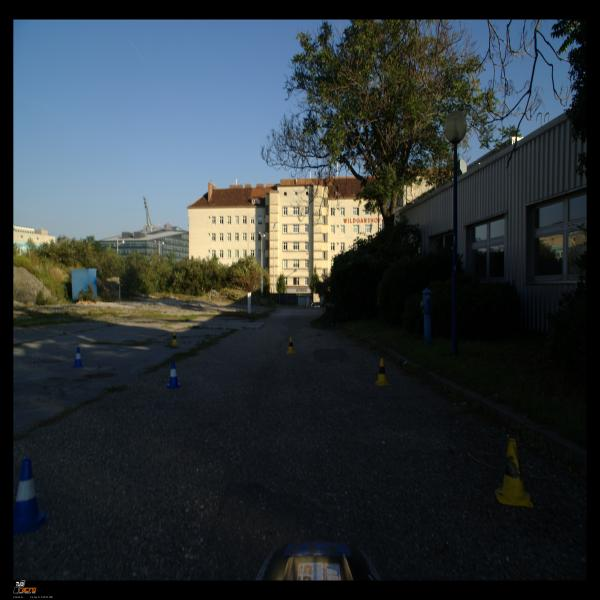blue_cone: (13, 458, 51, 535), (166, 360, 181, 388), (73, 347, 84, 367)
yellow_cone: (495, 438, 533, 508), (375, 358, 390, 386), (286, 336, 296, 354), (172, 331, 179, 345)
